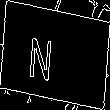N_N: (41, 28, 69, 82)
